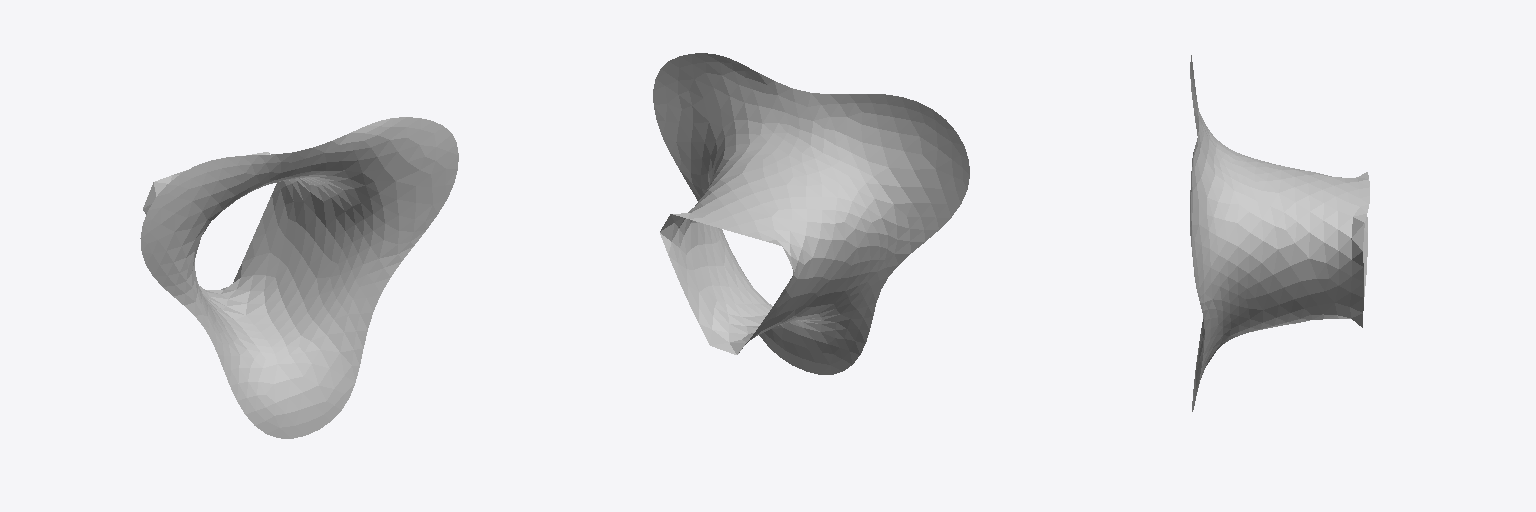
Rendered from tw1_opt_deformed.obj.
3 renders of one model, left to right at view 1: azimuth 30°, elevation 25°; view 2: azimuth 150°, elevation 25°; view 3: azimuth 270°, elevation 25°, orthographic.
Parts seen in each view (by area): view 1: samples/tw1_opt_deformed; view 2: samples/tw1_opt_deformed; view 3: samples/tw1_opt_deformed.
Part boxes in pixels (bbox=[...]): samples/tw1_opt_deformed: bbox=[140, 117, 458, 438]; samples/tw1_opt_deformed: bbox=[653, 53, 969, 374]; samples/tw1_opt_deformed: bbox=[1190, 55, 1369, 411].
Size of the model in its own units: 59.03 by 52.94 by 29.1.